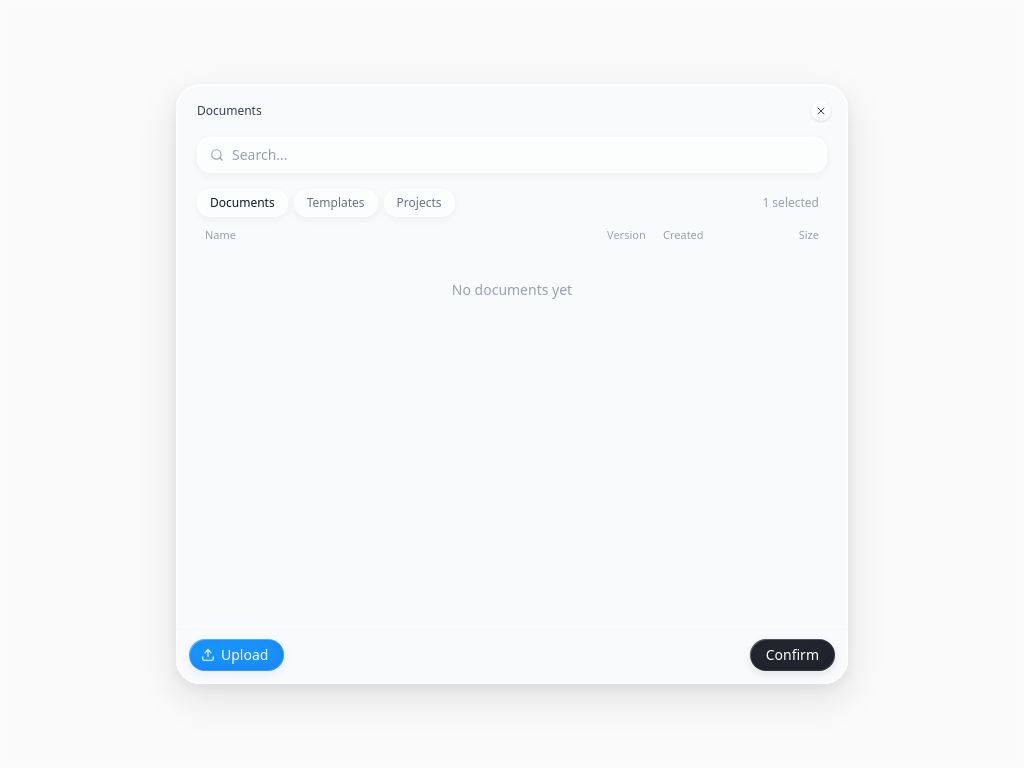
Test: AddDocumentsModal project assignment › keeps the picker open and names the file when the assignment fails
Click the 2nd button named "Confirm": (792, 655) [750,639,835,671]
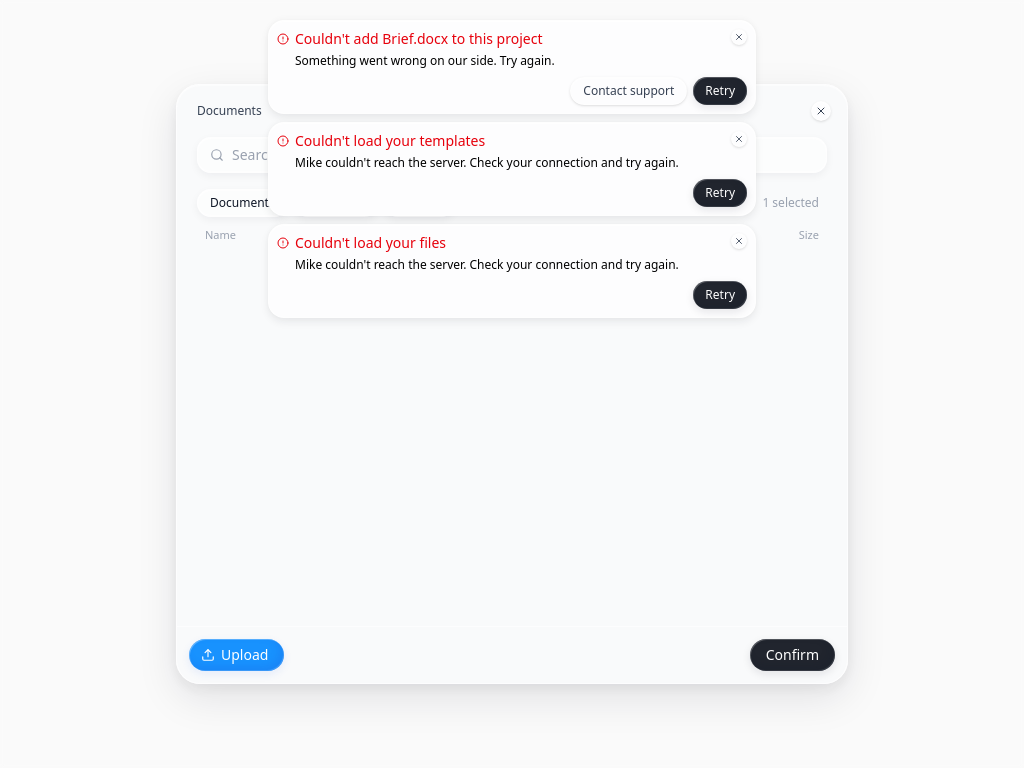
Expected: the message that starts with "Couldn't add Brief.docx to this project" does not show "API error: 500", [268,20,756,114]
Result: the message that starts with "Couldn't add Brief.docx to this project" is shown at [295,29,542,48]
